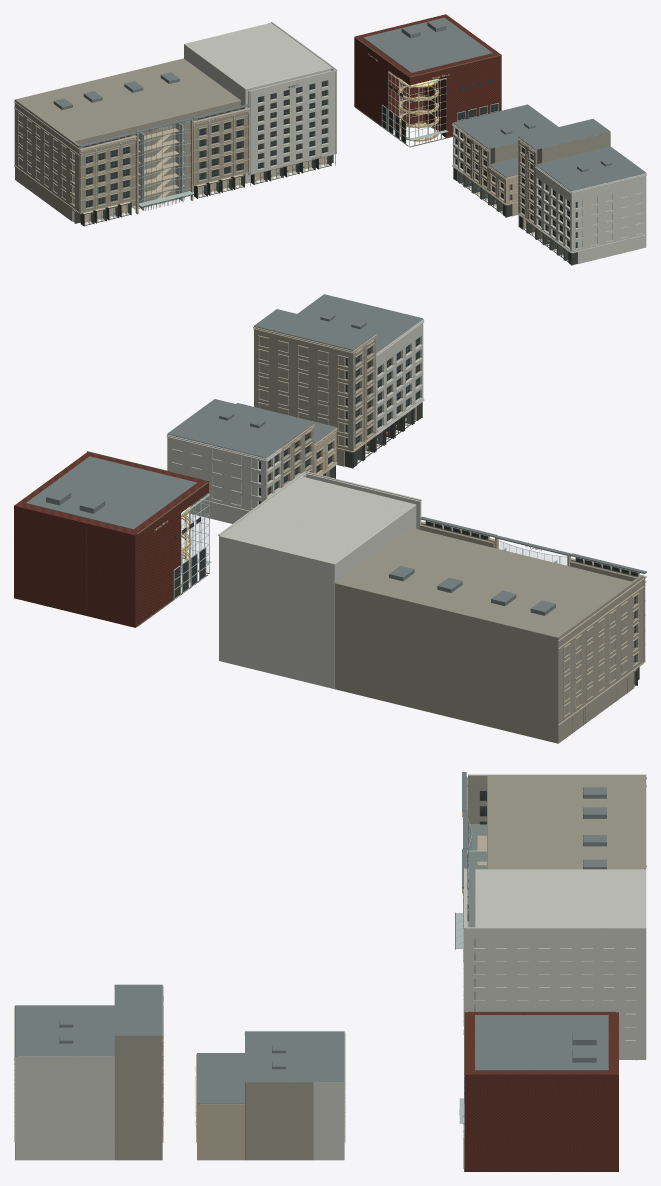
File: square-frontages.glb
The picture shows the model from 3 angles, top to bottom: view 1: azimuth 30°, elevation 25°; view 2: azimuth 150°, elevation 25°; view 3: azimuth 270°, elevation 25°; orthographic projection. The views are drawn at different scales.
Visible parts, largest first — view 1: Macys Geary / Macy limestone, I Magnin marble corner / Magnin white marble, Neiman Marcus southeast / Neiman checkerboard red granite, Stockton boutique parcels / Magnin white marble, Stockton boutique parcels / Roof and service metal, Macys Geary / Carved warm limestone, Neiman Marcus southeast / Roof and service metal, Stockton boutique parcels / Macy limestone, Stockton boutique parcels / Carved warm limestone, Macys Geary / Recessed smoked glass, Macys Geary / Pale atrium steel, Neiman Marcus southeast / Pale atrium steel (+17 smaller); view 2: Macys Geary / Macy limestone, I Magnin marble corner / Magnin white marble, Neiman Marcus southeast / Neiman checkerboard red granite, Stockton boutique parcels / Macy limestone, Stockton boutique parcels / Roof and service metal, Stockton boutique parcels / Magnin white marble, Neiman Marcus southeast / Roof and service metal, Stockton boutique parcels / Carved warm limestone, Macys Geary / Carved warm limestone, Stockton boutique parcels / Recessed smoked glass, Macys Geary / Roof and service metal, Stockton boutique parcels / Patinated bronze frames (+3 smaller); view 3: I Magnin marble corner / Magnin white marble, Neiman Marcus southeast / Neiman checkerboard red granite, Stockton boutique parcels / Roof and service metal, Macys Geary / Macy limestone, Stockton boutique parcels / Magnin white marble, Stockton boutique parcels / Macy limestone, Neiman Marcus southeast / Roof and service metal, Stockton boutique parcels / Carved warm limestone, Macys Geary / Roof and service metal, Macys Geary / Pale atrium steel.
Boxes of the visible parts, x1,y1,x2,y2 form: Macys Geary / Macy limestone: (14,58,249,221); I Magnin marble corner / Magnin white marble: (184,22,337,186); Neiman Marcus southeast / Neiman checkerboard red granite: (354,14,501,137); Stockton boutique parcels / Magnin white marble: (452,123,646,263); Stockton boutique parcels / Roof and service metal: (453,104,646,190); Macys Geary / Carved warm limestone: (14,101,250,214); Neiman Marcus southeast / Roof and service metal: (363,17,492,72); Stockton boutique parcels / Macy limestone: (464,131,610,224); Stockton boutique parcels / Carved warm limestone: (463,132,535,226); Macys Geary / Recessed smoked glass: (73,108,243,207); Macys Geary / Pale atrium steel: (137,120,193,210); Neiman Marcus southeast / Pale atrium steel: (381,71,498,146); Macys Geary / Macy limestone: (335,524,644,743); I Magnin marble corner / Magnin white marble: (218,471,421,689); Neiman Marcus southeast / Neiman checkerboard red granite: (14,452,208,627); Stockton boutique parcels / Macy limestone: (254,326,375,487); Stockton boutique parcels / Roof and service metal: (167,294,422,457); Stockton boutique parcels / Magnin white marble: (166,319,424,523); Neiman Marcus southeast / Roof and service metal: (26,456,196,529); Stockton boutique parcels / Carved warm limestone: (253,327,376,487); Macys Geary / Carved warm limestone: (421,521,646,725); Stockton boutique parcels / Recessed smoked glass: (259,337,419,504); Macys Geary / Roof and service metal: (389,516,646,615); Stockton boutique parcels / Patinated bronze frames: (259,337,419,495); I Magnin marble corner / Magnin white marble: (463,868,646,1059); Neiman Marcus southeast / Neiman checkerboard red granite: (464,1012,618,1171); Stockton boutique parcels / Roof and service metal: (15,984,344,1104); Macys Geary / Macy limestone: (468,774,646,869); Stockton boutique parcels / Magnin white marble: (14,1006,345,1160); Stockton boutique parcels / Macy limestone: (114,1035,313,1160); Neiman Marcus southeast / Roof and service metal: (475,1015,608,1070); Stockton boutique parcels / Carved warm limestone: (114,985,244,1160); Macys Geary / Roof and service metal: (462,772,606,888); Macys Geary / Pale atrium steel: (456,819,486,948).
Bounding box in the file's own units: 197 × 42.61 × 184.
Materials: 22 (5 with a texture image).
